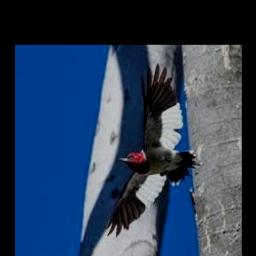Woodpecker: (106, 64, 203, 237)
